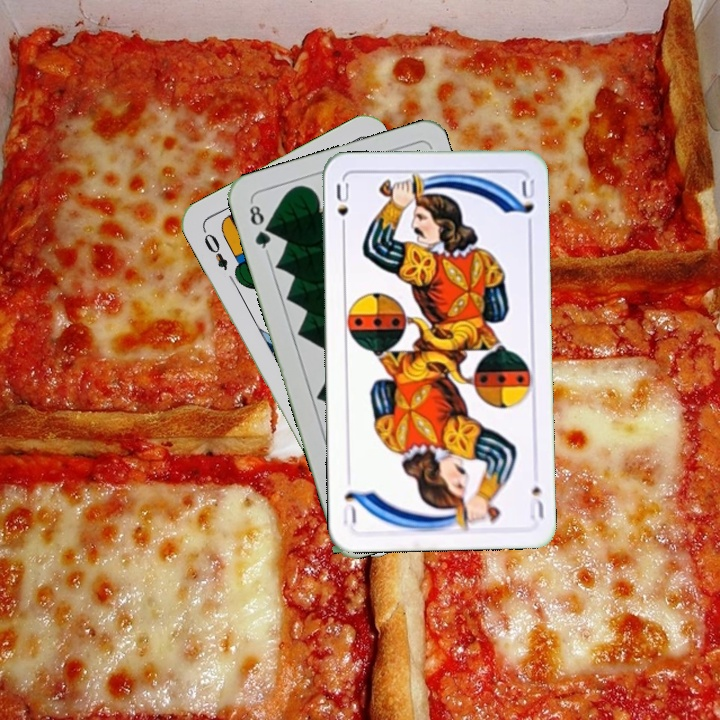EO: (198, 225, 231, 273)
G8: (245, 198, 274, 256)
SU: (332, 178, 352, 236), (527, 482, 547, 522)
